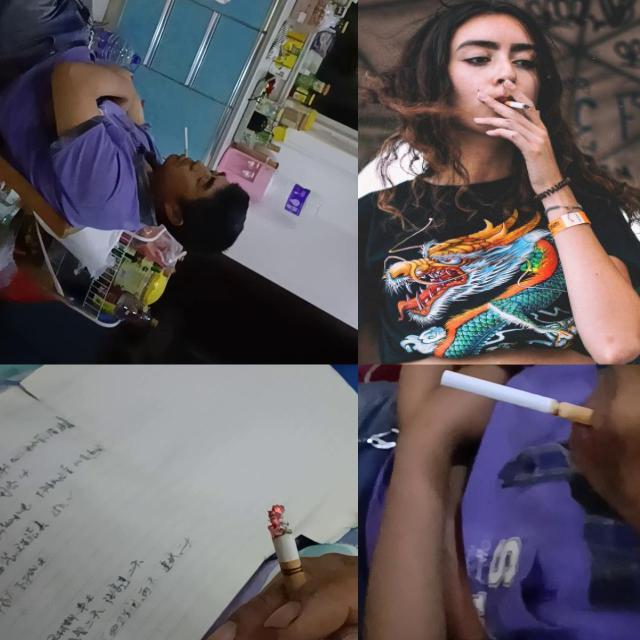smoking: (439, 368, 596, 426), (268, 504, 316, 624), (502, 100, 530, 110), (184, 126, 188, 158)
